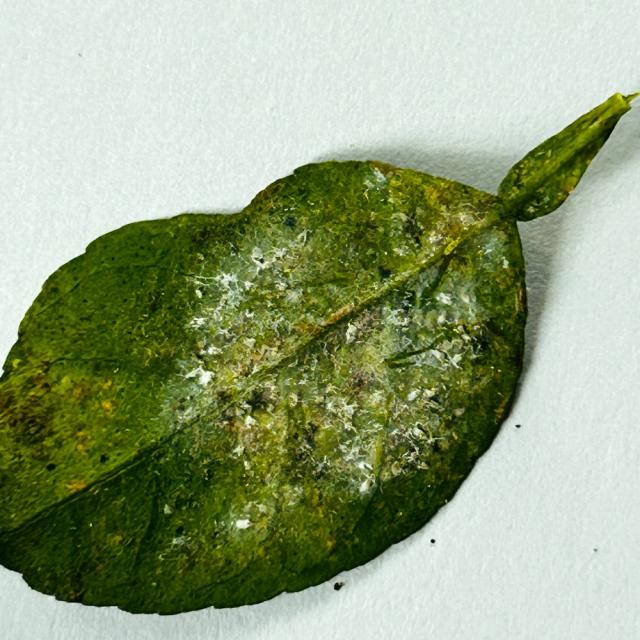Bacterial_Blight: (6, 351, 146, 487), (250, 211, 364, 298), (287, 371, 373, 474), (196, 288, 293, 375), (64, 485, 150, 581), (295, 303, 391, 389), (394, 175, 475, 240), (215, 394, 280, 458), (114, 299, 172, 360), (520, 143, 579, 197), (155, 520, 208, 568), (23, 414, 67, 456), (399, 214, 424, 247), (252, 181, 284, 206), (492, 388, 513, 420), (350, 224, 377, 248), (297, 432, 319, 461), (414, 185, 440, 209), (56, 583, 81, 601), (215, 388, 237, 406), (190, 228, 210, 245), (218, 417, 238, 434), (147, 294, 162, 313), (304, 420, 320, 437), (101, 399, 114, 412), (72, 385, 84, 398)
Lemon: (0, 94, 639, 619)
